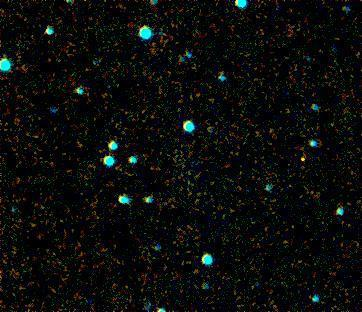star: (283, 144, 313, 174)
